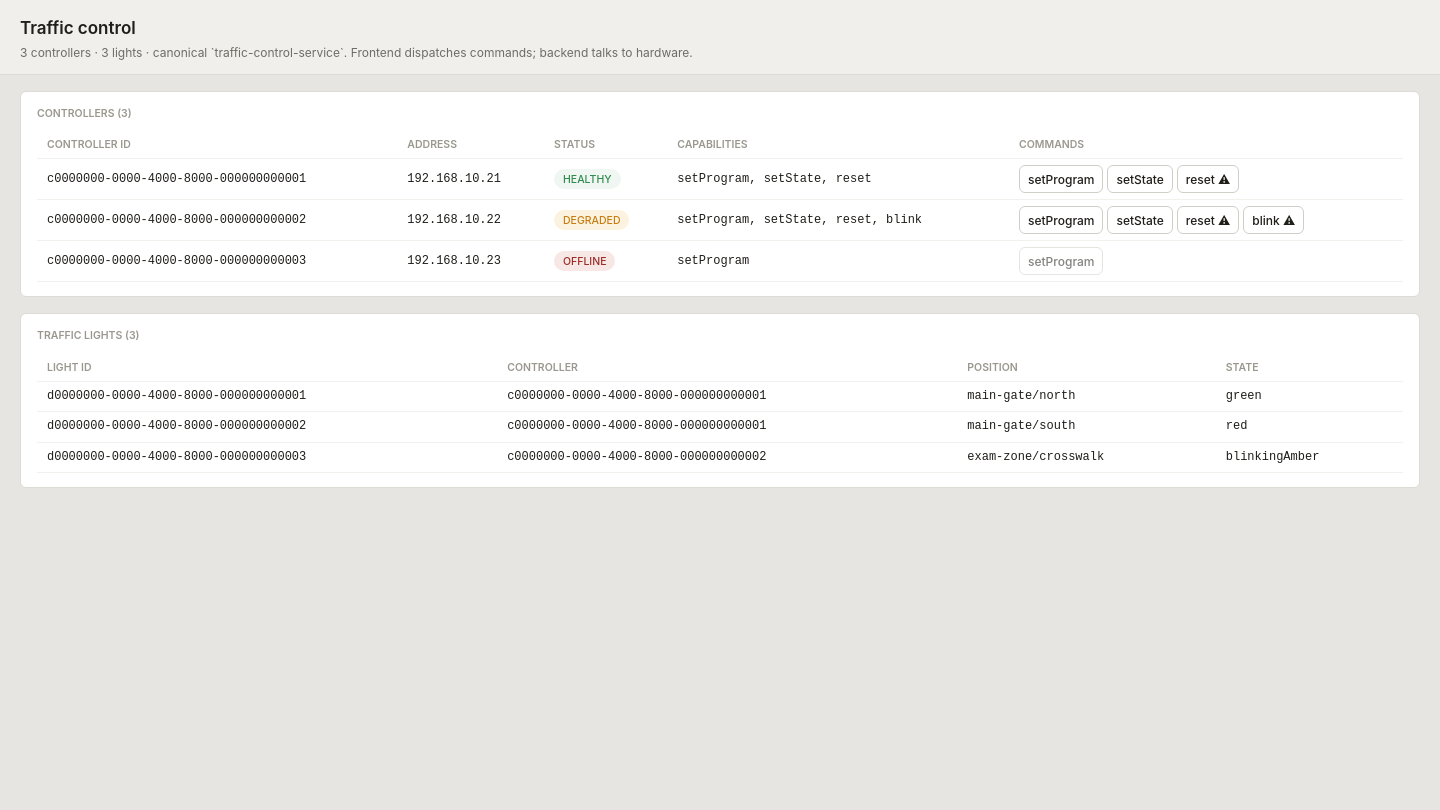
Test: TrafficControlScreen command gating › with traffic.manage the command is sent and the backend acceptance recorded
Click the button "setProgram" in the row of "192.168.10.21" at (1061, 180), box [1019,166,1104,194]
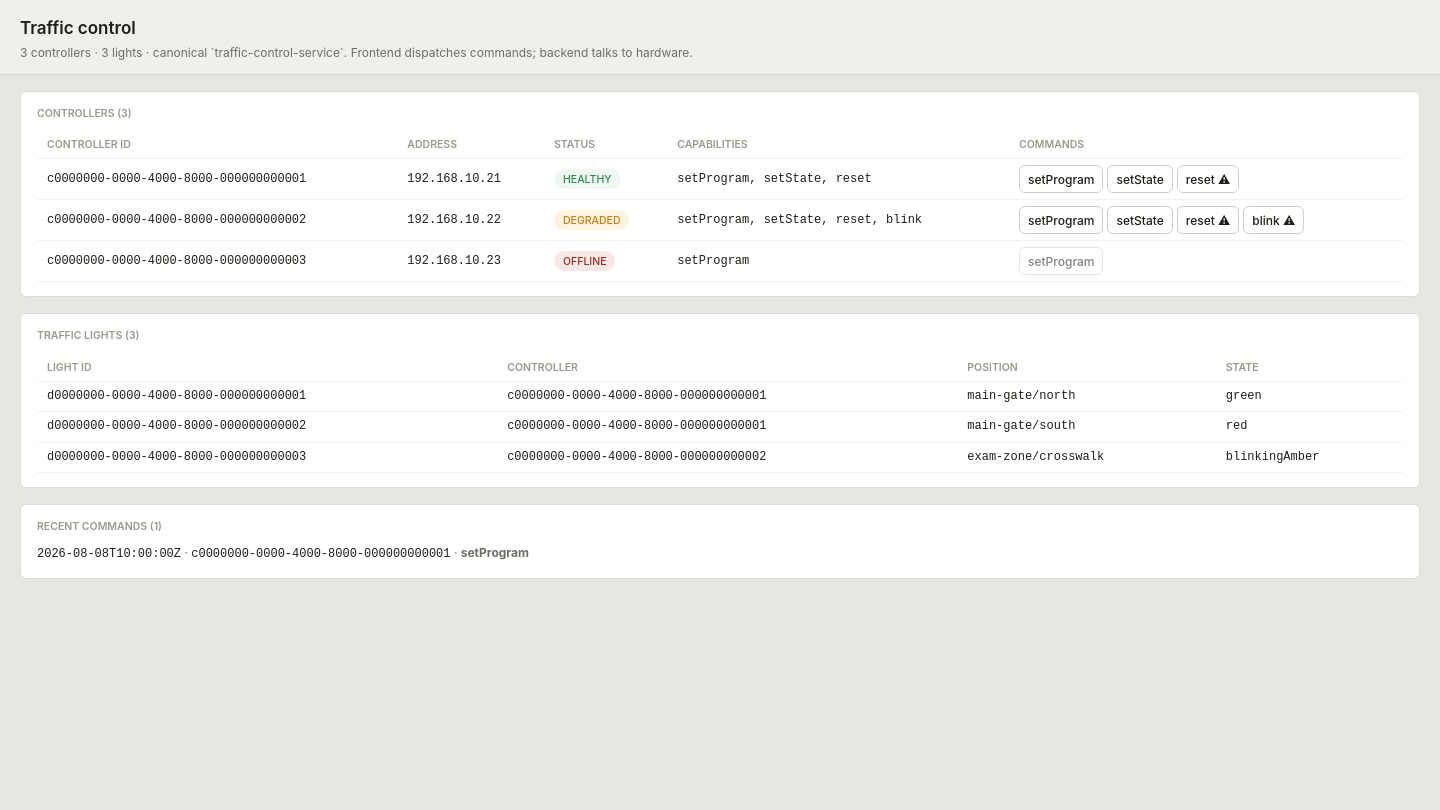
Expected: the text "2026-08-08T10:00:00Z" is shown, [37,547,181,561]
